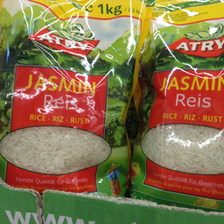rice: (1, 1, 148, 196), (130, 1, 224, 207)
